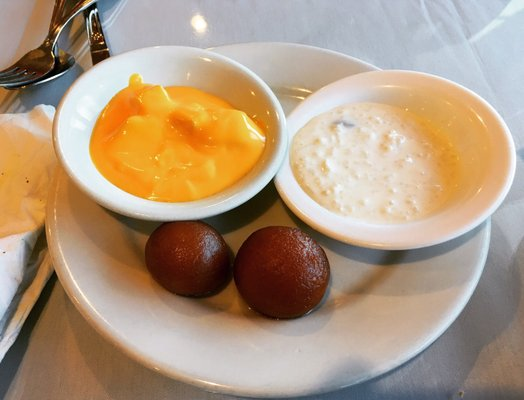salad: (1, 0, 95, 89)
sushi: (273, 69, 518, 254), (51, 45, 290, 224)
taco: (91, 73, 265, 202), (144, 219, 234, 298)
